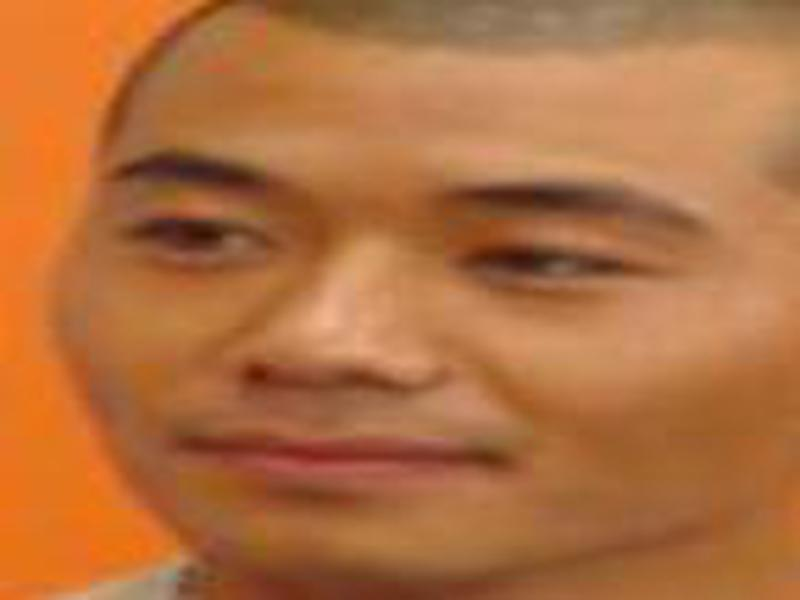without_mask: (51, 34, 799, 585)
